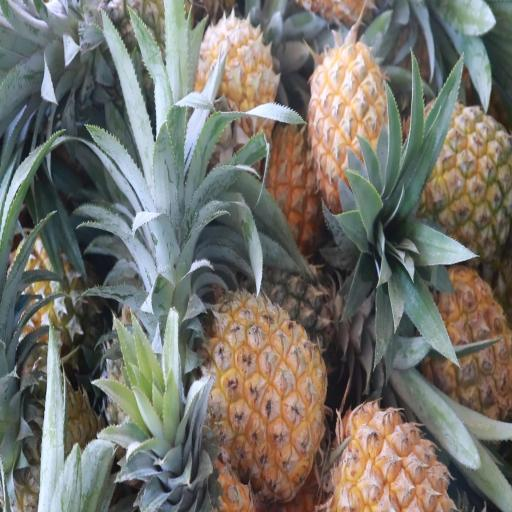Pineapple - v8 v1: (210, 288, 324, 494), (308, 41, 396, 212), (419, 101, 512, 260), (329, 400, 459, 512), (419, 260, 512, 415), (196, 17, 276, 159)
